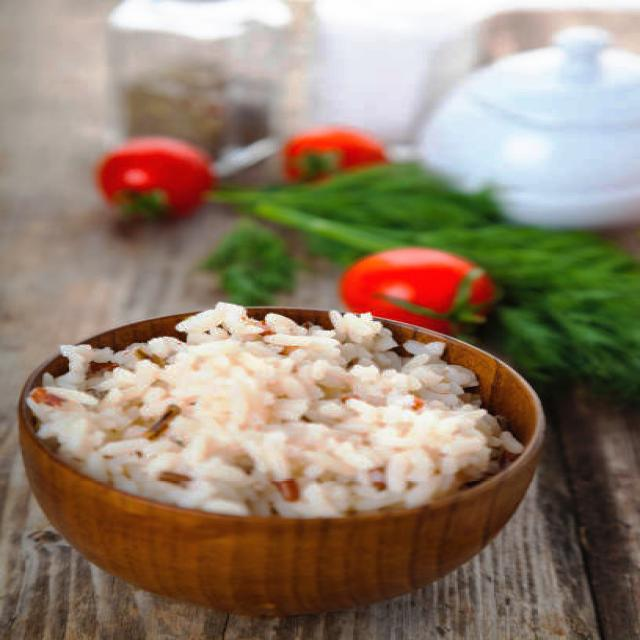rice: (29, 301, 522, 516)
